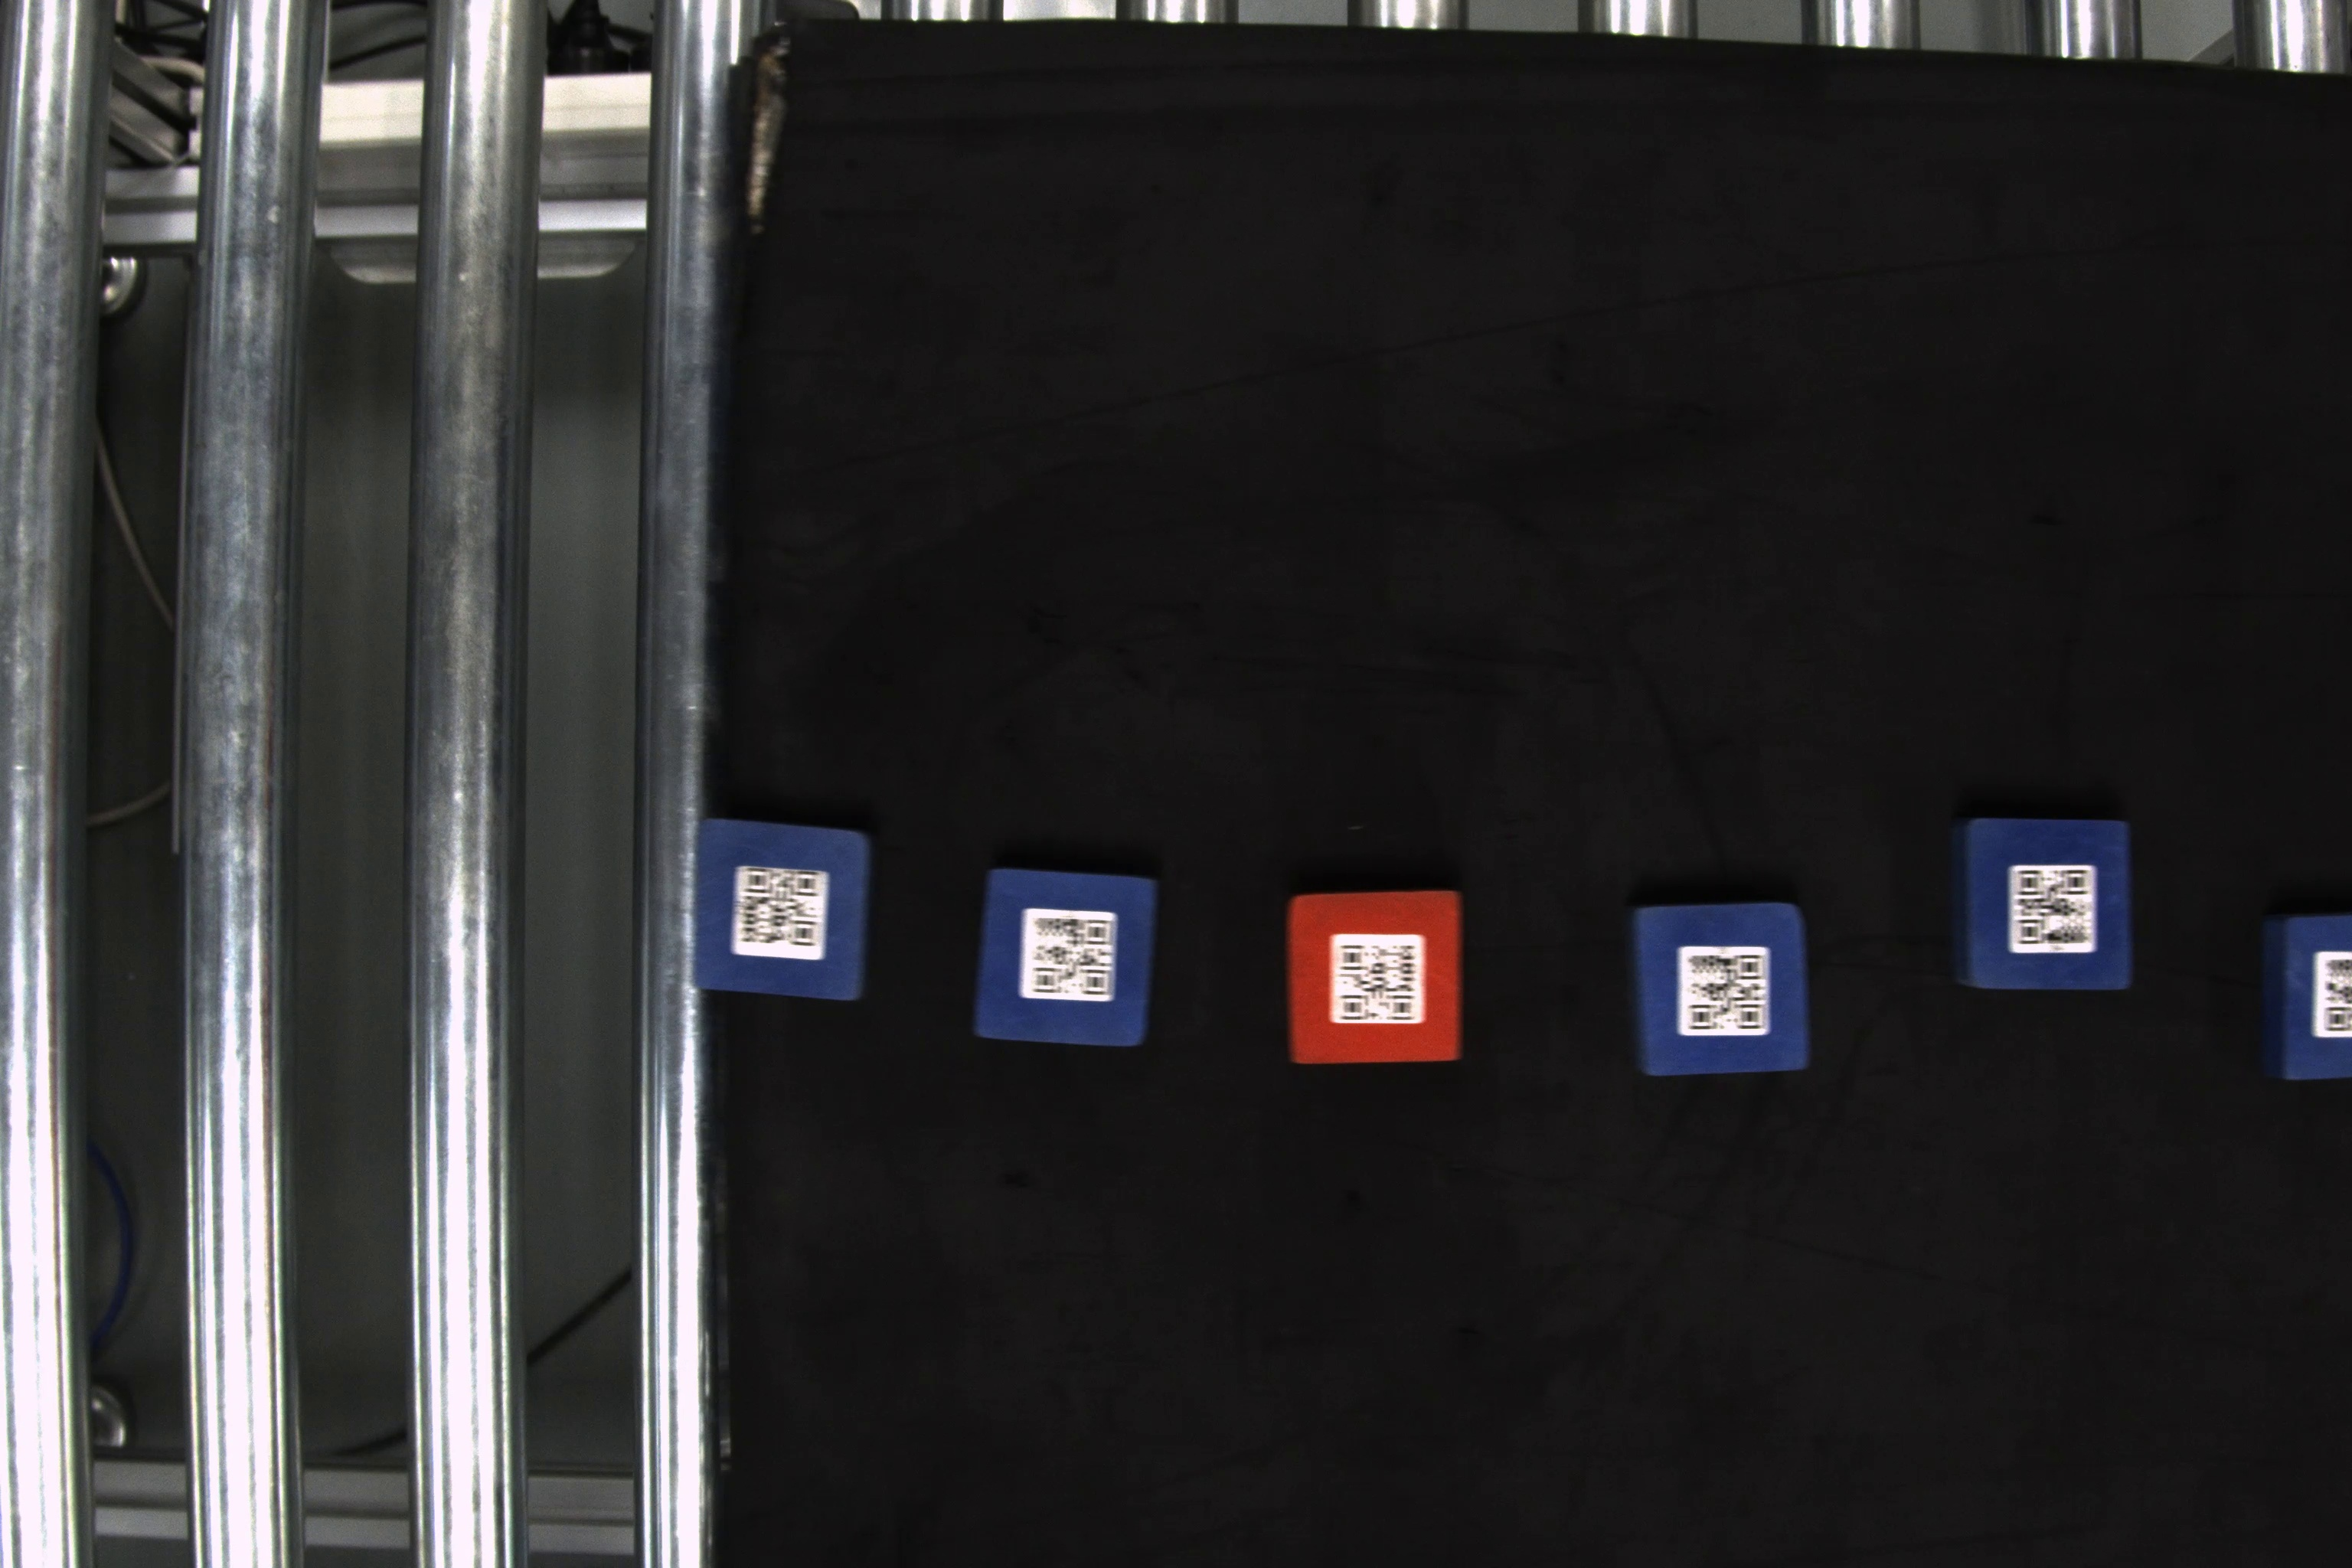wood: (1942, 810, 2138, 996), (971, 868, 1164, 1048), (1626, 903, 1820, 1081), (1283, 889, 1466, 1073), (693, 817, 875, 1001), (2256, 903, 2345, 1088)
